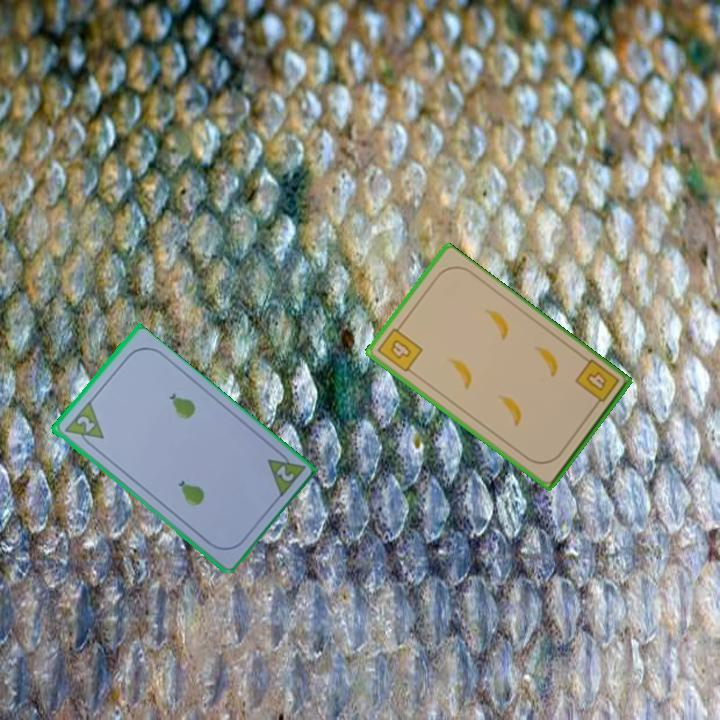2p: (60, 399, 106, 452), (272, 462, 297, 485)
4b: (374, 320, 426, 375), (571, 356, 622, 412)
